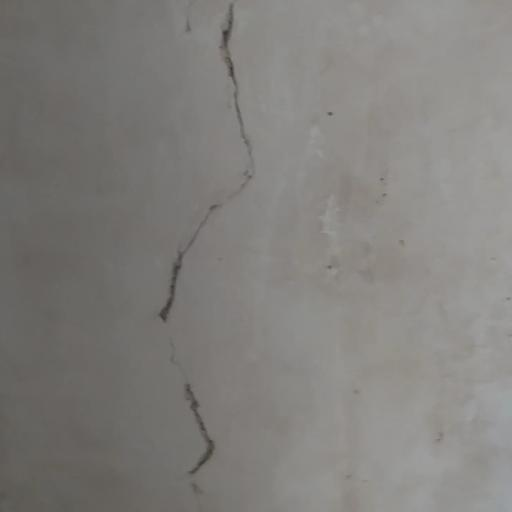minor_crack: (141, 0, 260, 512)
